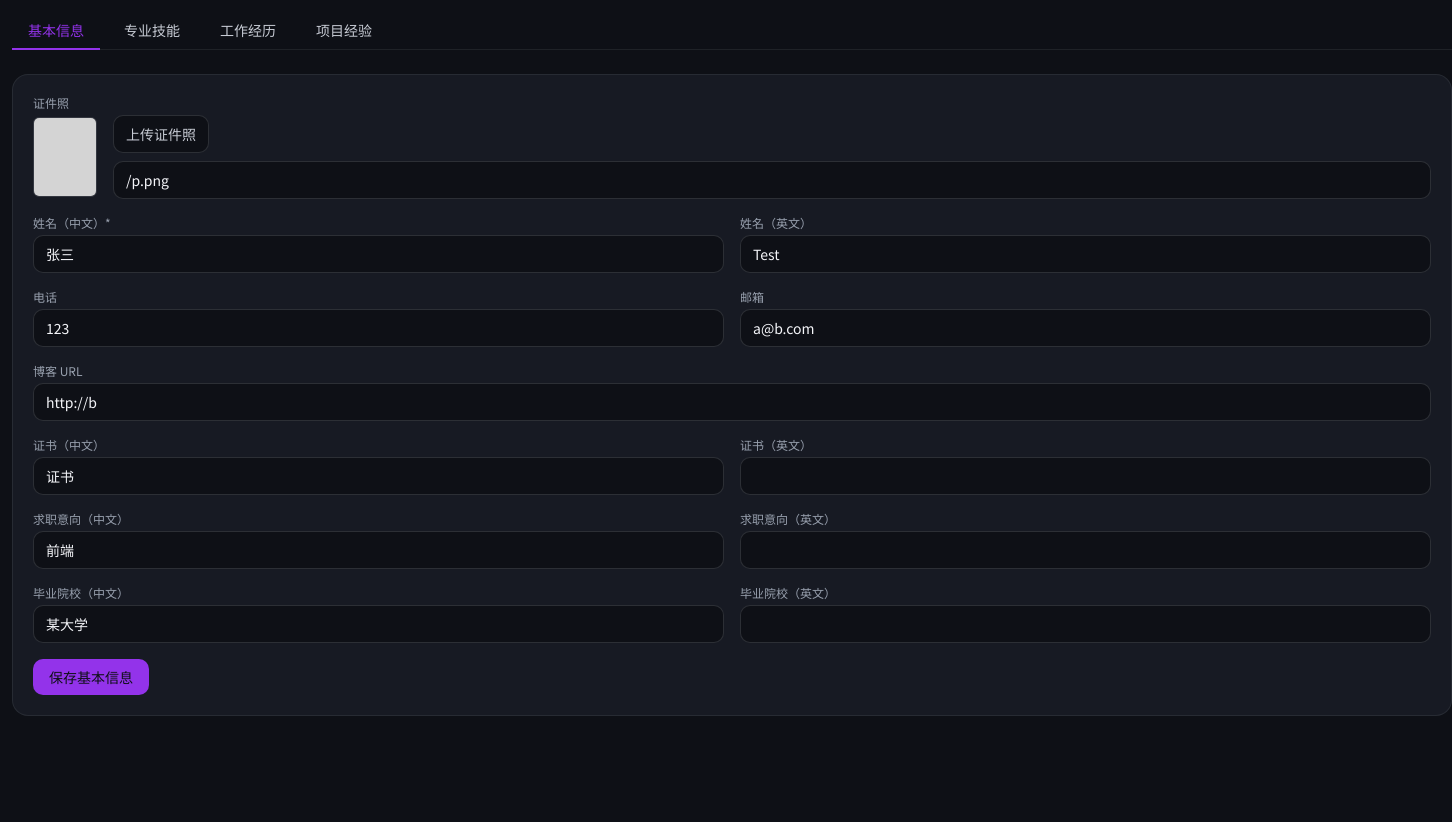
Test: ResumeManager › 项目经验 Tab 渲染已有项目及展示开关状态
Click the button "项目经验": (344, 31) top-left (300, 12), bottom-right (388, 50)
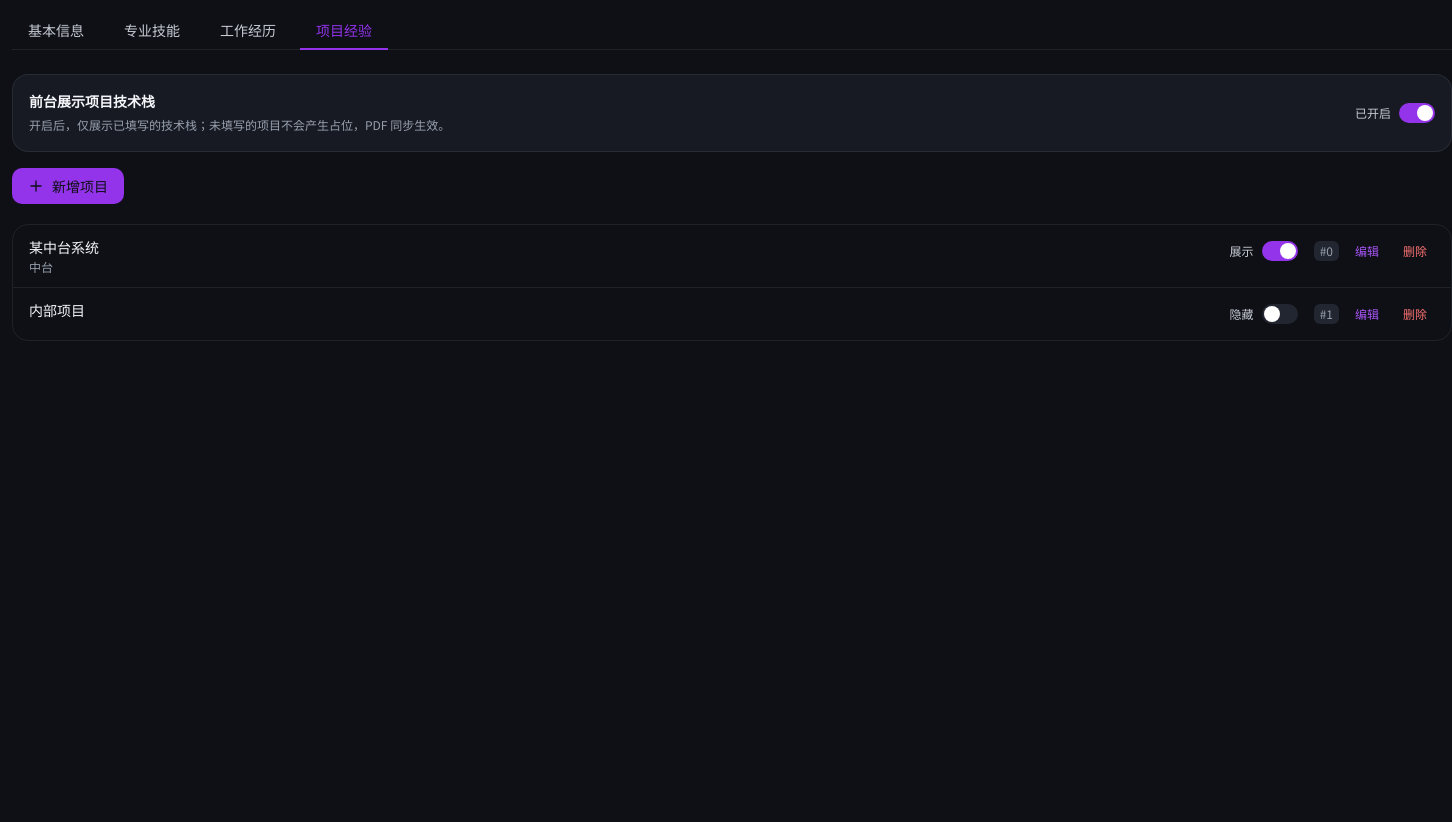
Check: the text "某中台系统" is shown, box top-left (29, 236), bottom-right (99, 256)
